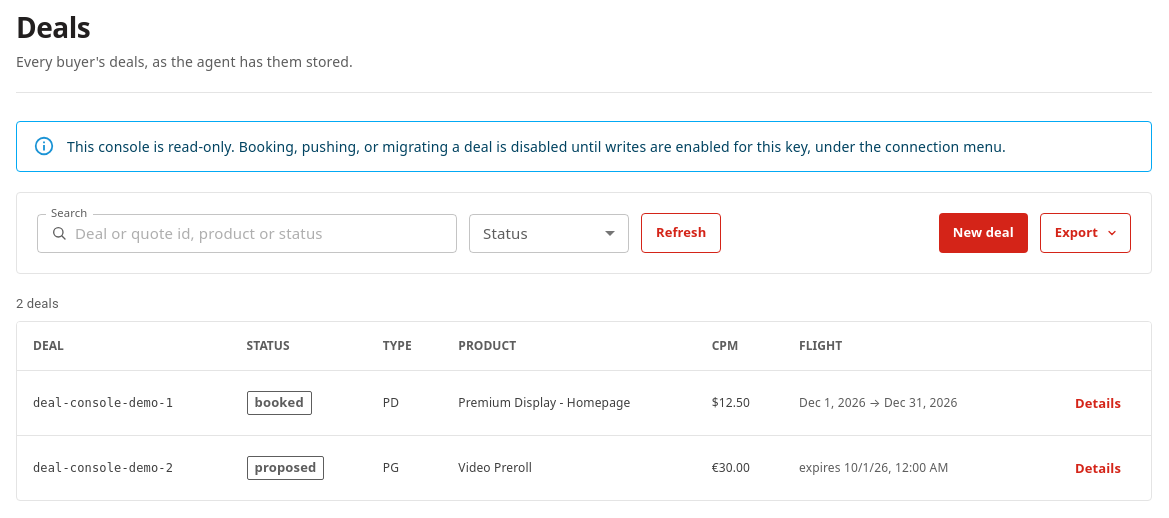
Test case: the deals screen › searches the loaded deals by id, product or status, without asking the agent again
Expected: the text "deal-console-demo-1" is shown, [17, 371, 231, 436]
In the search field labelled "Search": (266, 233) [75, 214, 457, 253], type "video"
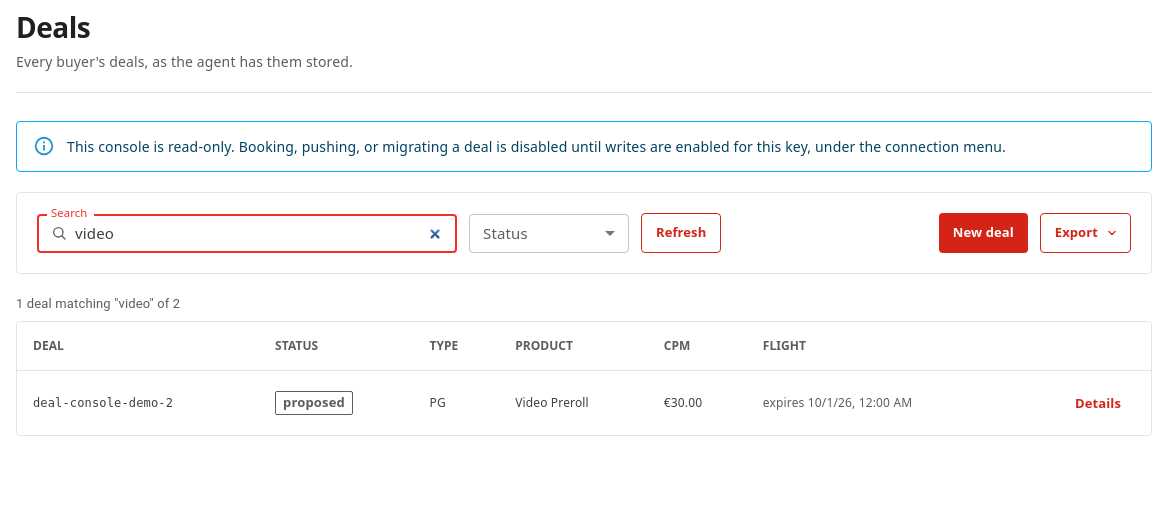
Expected: the text "deal-console-demo-2" is shown, [17, 371, 259, 435]
Expected: the text "deal-console-demo-1" is gone
Expected: the text "1 deal matching \"video\" of 2" is shown, [16, 296, 180, 311]
Replace the text in the search field labelled "Search" with "nothing-like-this": (266, 233) [75, 214, 457, 253]
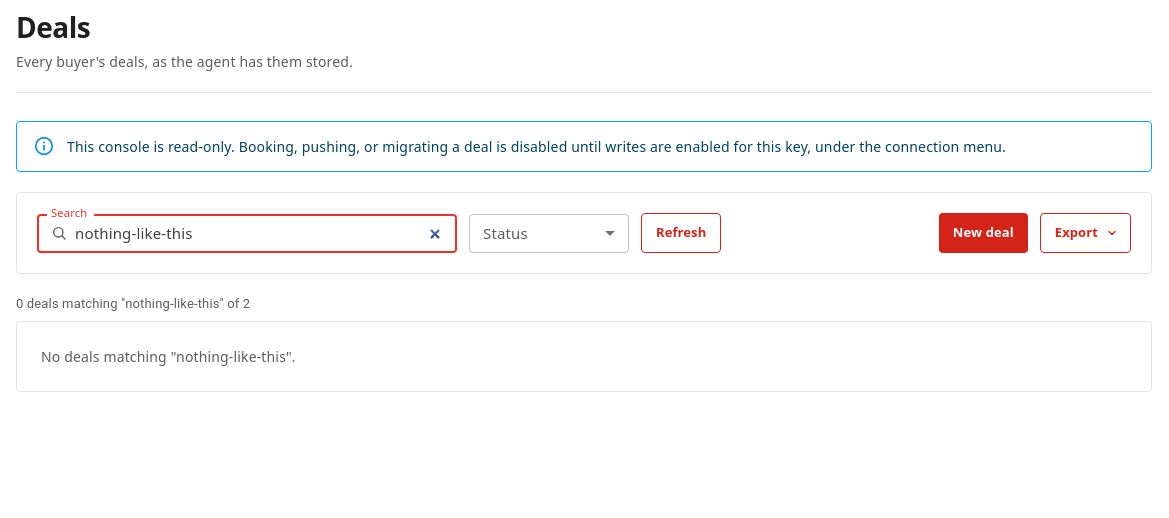
Expected: the element showing "No deals matching \"nothing-like-this\"." shows "No deals matching \"nothing-like-this\"", [41, 347, 296, 366]
Note: Escape empties the box and brings the list back.
Press Escape
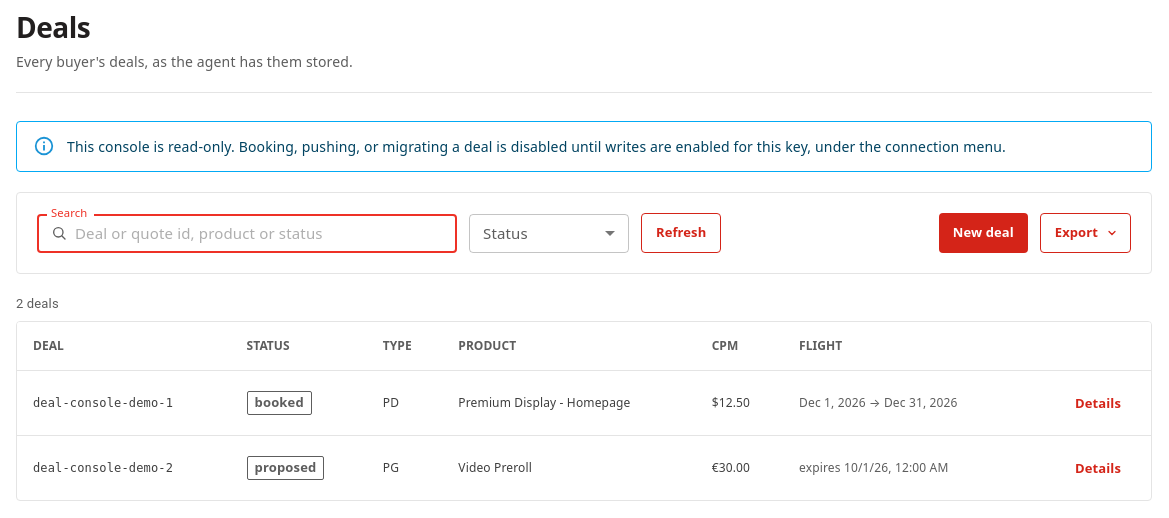
Expected: the text "deal-console-demo-1" is shown, [17, 371, 231, 436]
